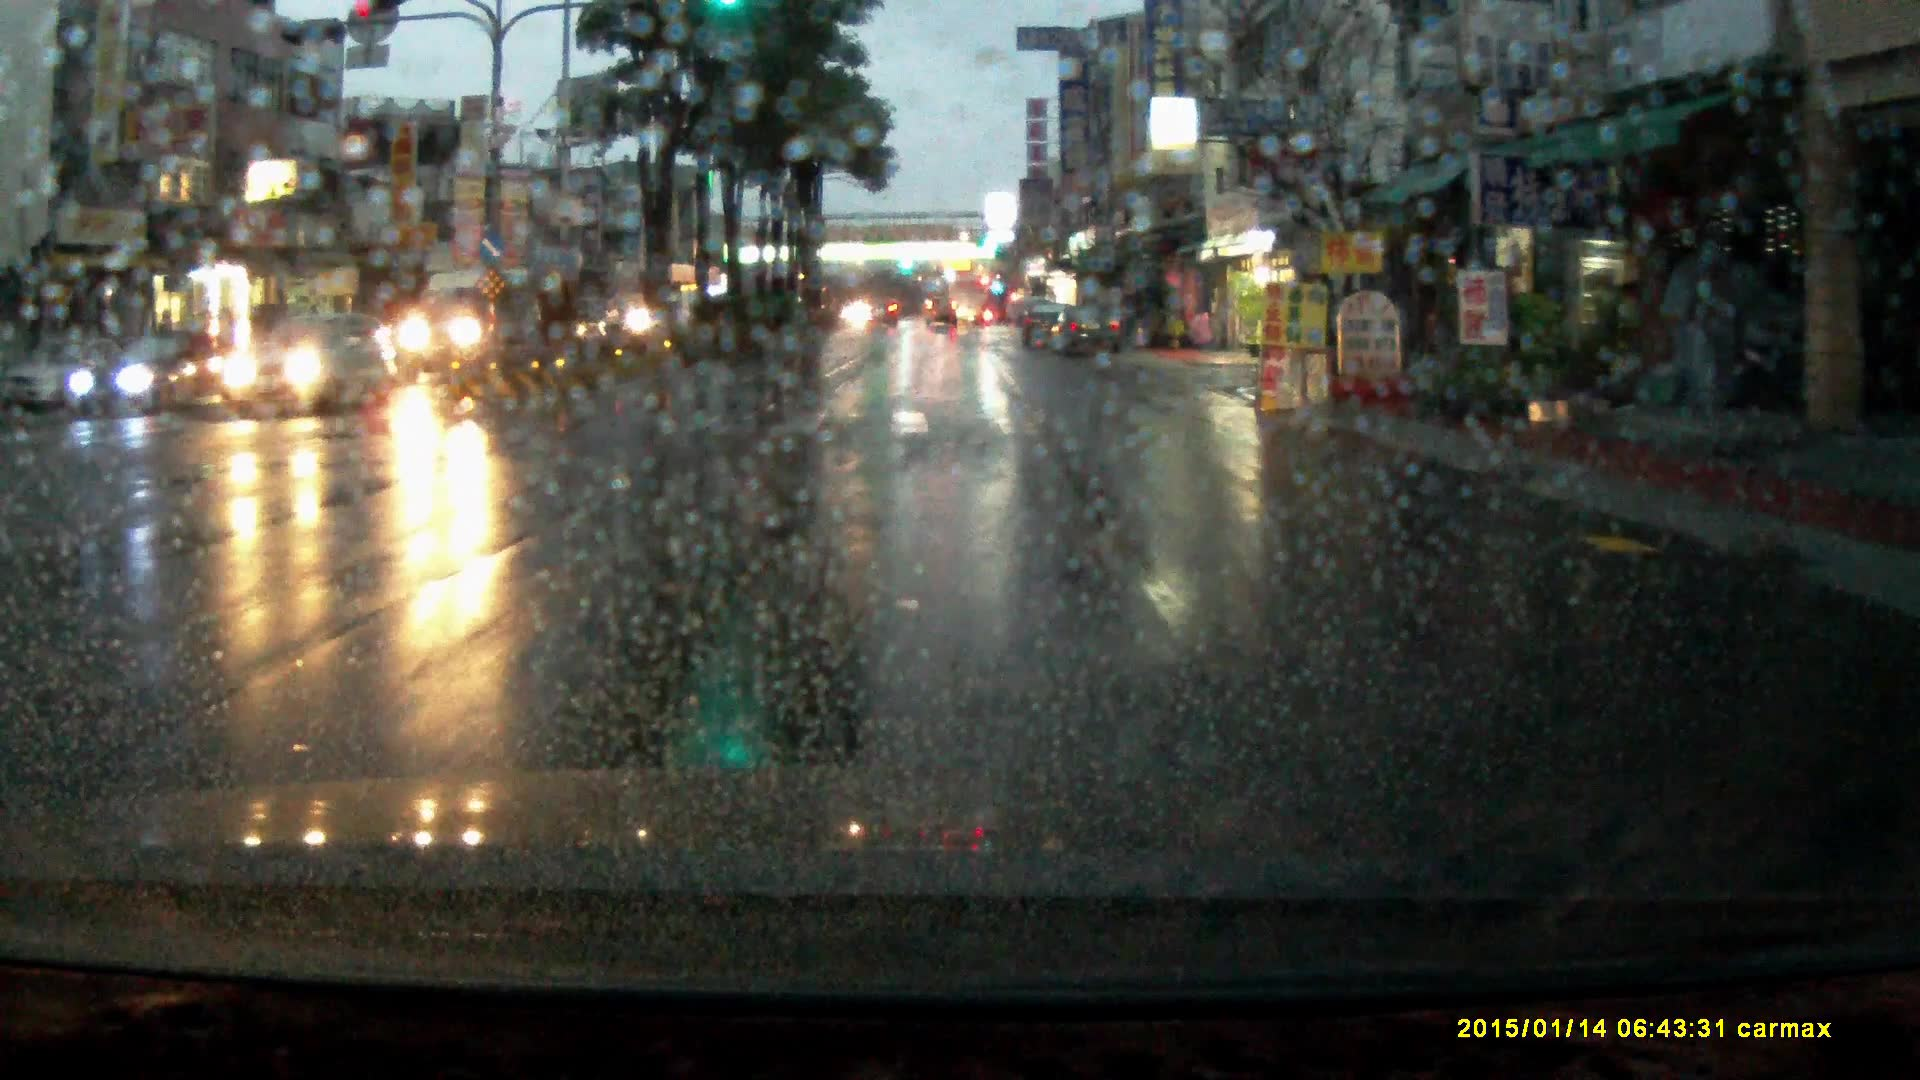vehicle: (218, 319, 400, 423), (400, 264, 537, 389), (53, 335, 203, 419), (12, 335, 119, 411), (1054, 307, 1126, 361), (1021, 305, 1071, 353), (949, 273, 988, 328), (927, 297, 959, 334), (865, 299, 899, 330)
